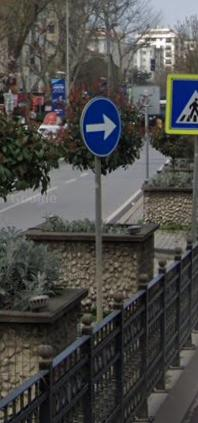turnright: (82, 99, 122, 157)
